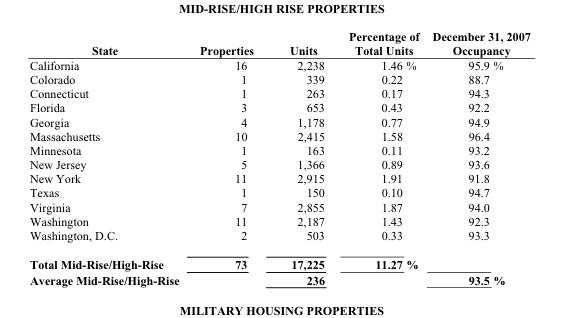table: (29, 29, 529, 286)
table column: (29, 29, 188, 286), (425, 29, 529, 286), (336, 29, 425, 286), (188, 29, 271, 286), (271, 29, 336, 286)
table column header: (29, 29, 529, 57)
table row: (29, 29, 529, 57), (29, 249, 529, 272), (29, 228, 529, 249), (29, 57, 529, 72), (29, 128, 529, 143), (29, 213, 529, 228), (29, 72, 529, 86), (29, 86, 529, 100), (29, 100, 529, 114), (29, 114, 529, 128), (29, 143, 529, 157), (29, 157, 529, 171), (29, 171, 529, 185), (29, 185, 529, 199), (29, 199, 529, 213), (29, 272, 529, 286)
